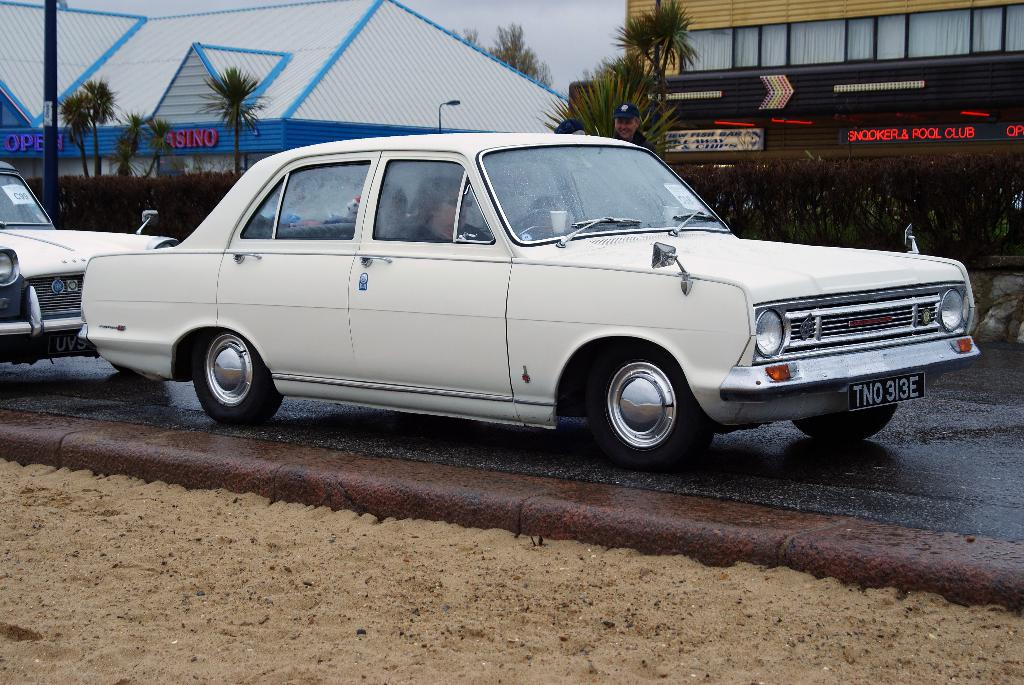Car: (76, 131, 982, 467), (0, 156, 177, 373)
